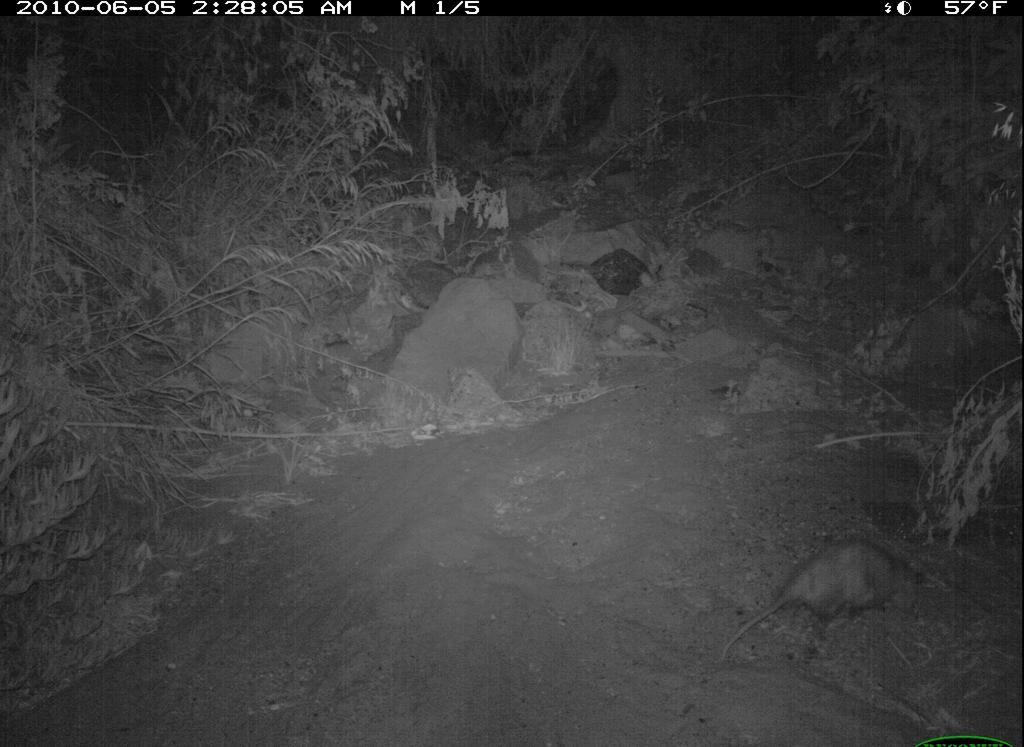opossum: (716, 532, 930, 667)
